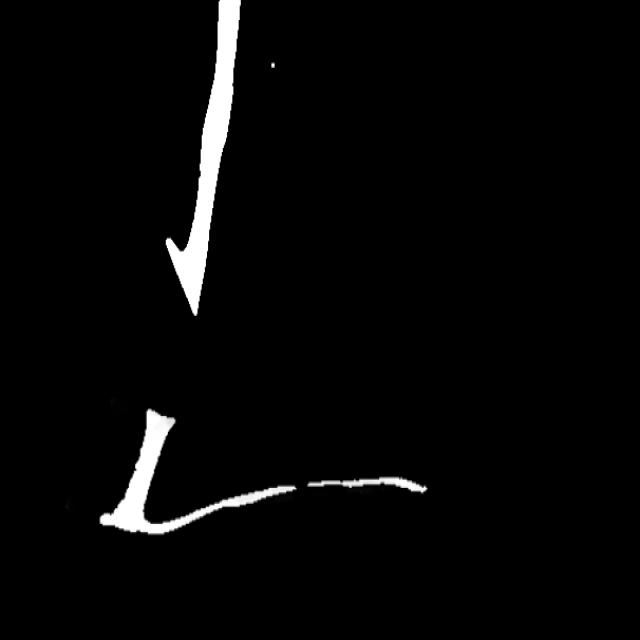sup: (291, 476, 313, 498)
